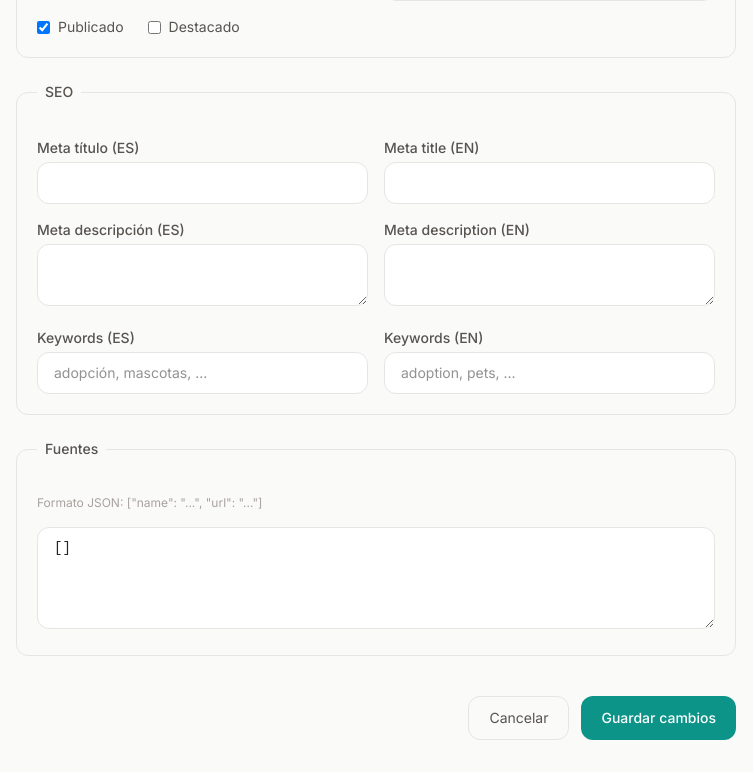
Test: AdminBlogEditPage › shows success message after successful save
(page scrolled)
Click the button "Guardar cambios" at (659, 718), box [582,696,736,740]
(page scrolled)
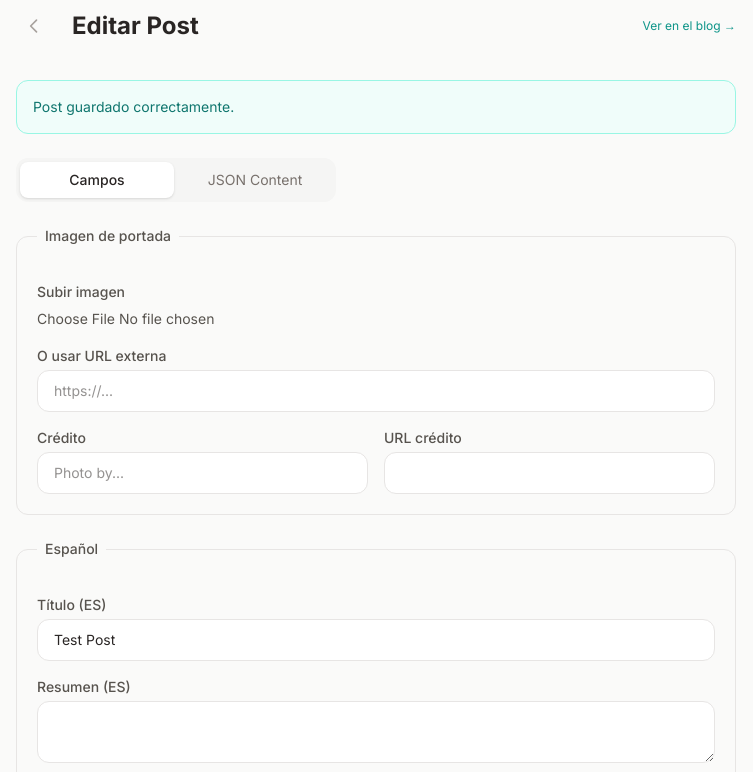
Expected: the text "Post guardado correctamente." is shown, [16,80,736,134]
